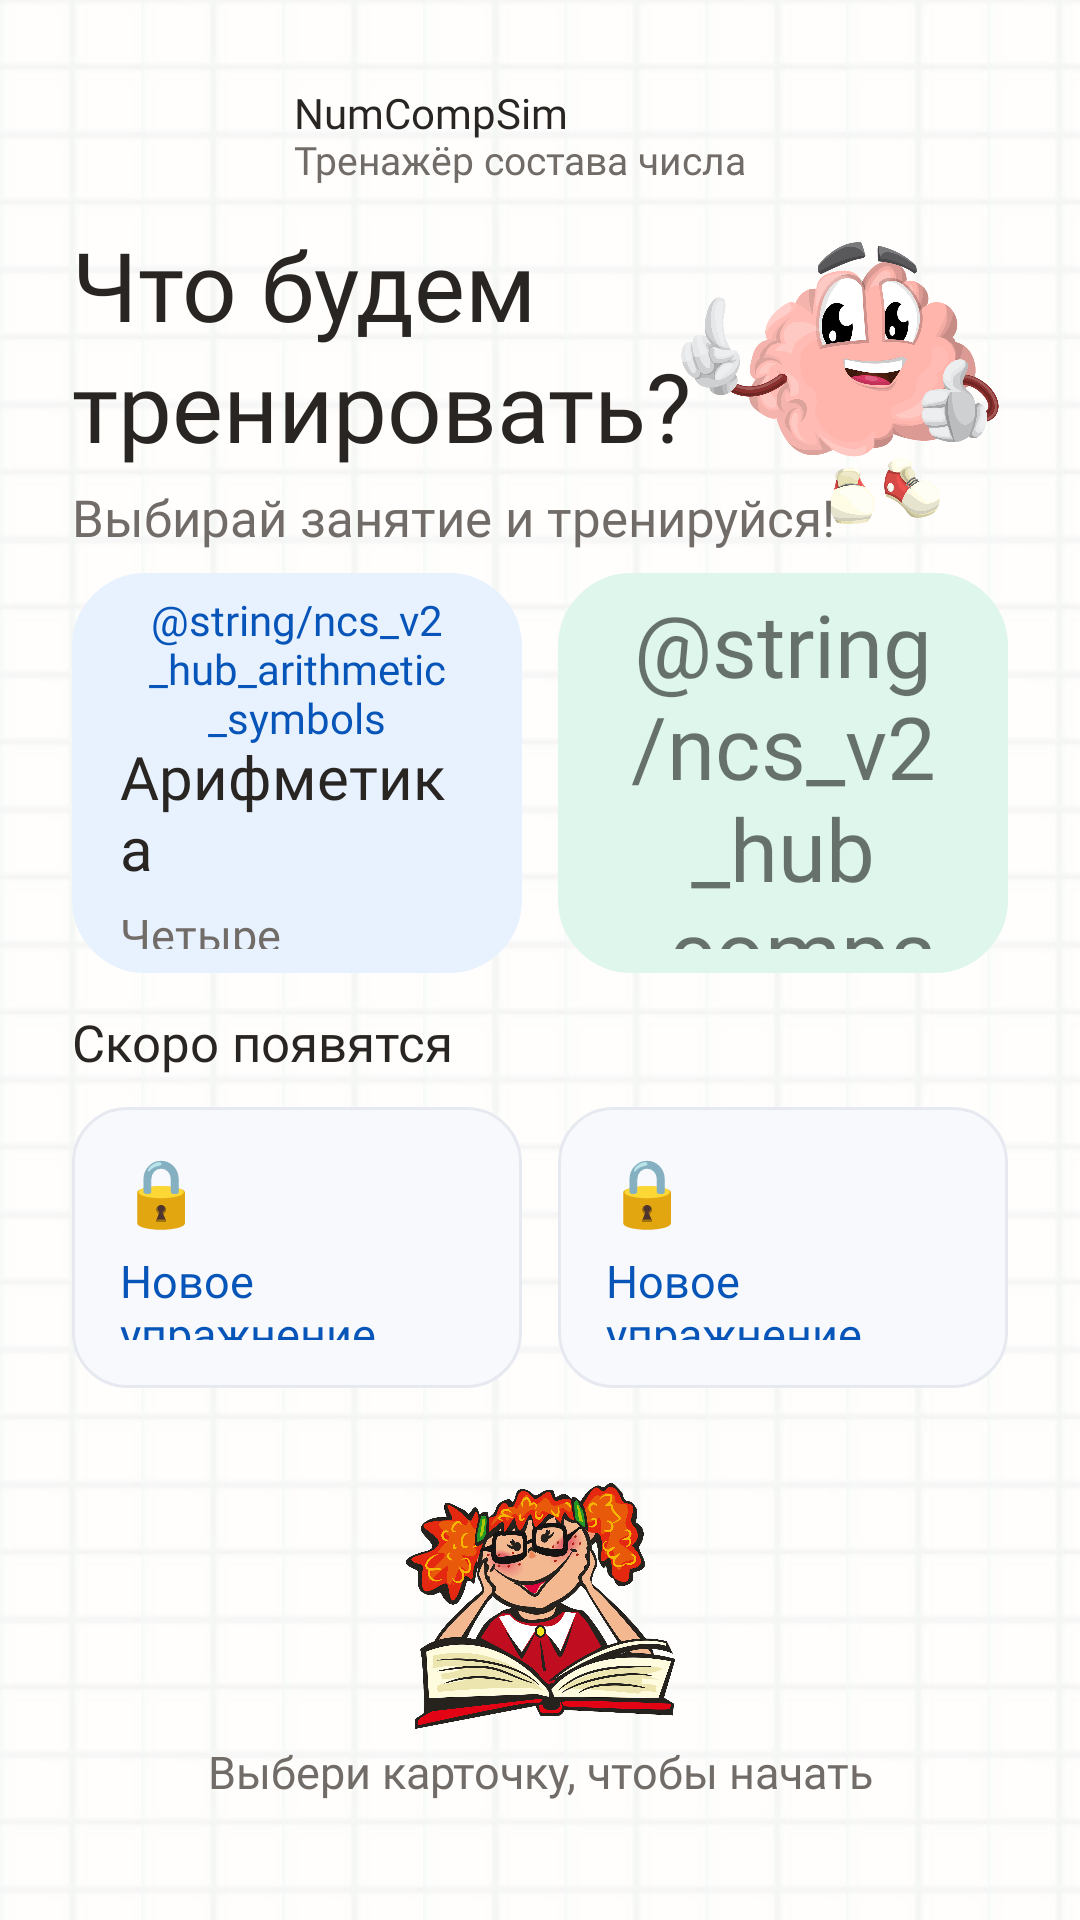

Icons on this 1080w x 1920h Android screen, each with the point to tap as [x,y]:
brain: [840,383]
girl: [540,1606]
